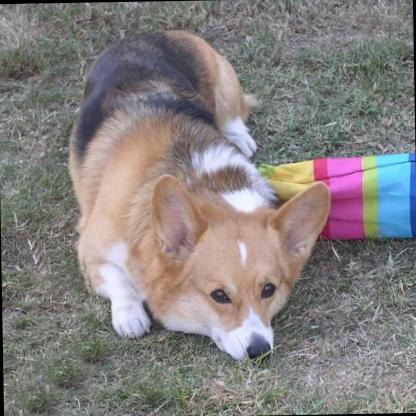Pembroke: (64, 25, 336, 367)
